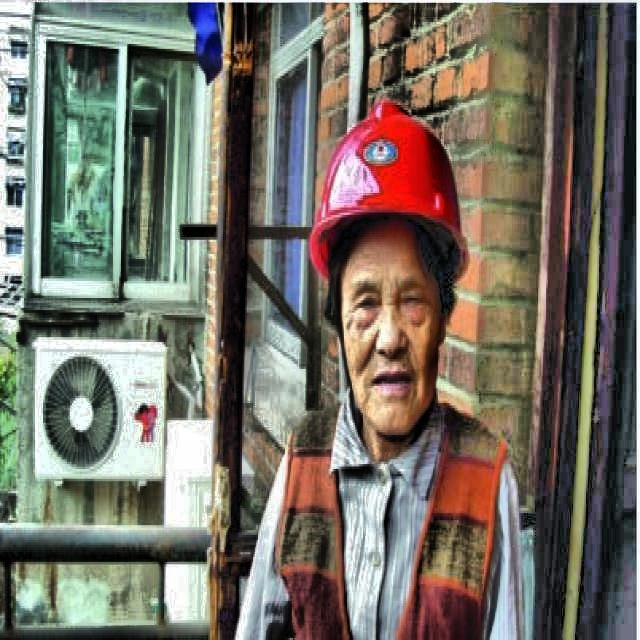person: (242, 90, 544, 640)
